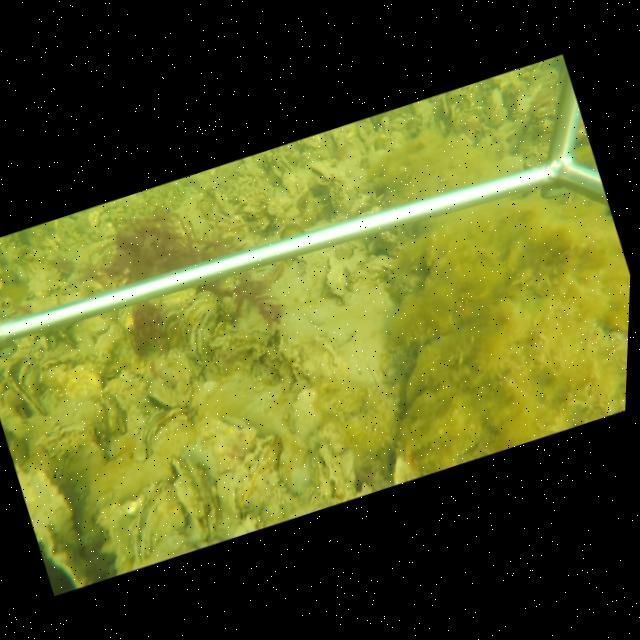Oyster-Closed: (130, 484, 183, 563), (169, 455, 215, 537), (236, 435, 282, 517), (178, 290, 220, 357), (143, 406, 194, 455), (9, 358, 45, 415), (323, 253, 346, 301)
Oyster-Indeterminate: (390, 385, 489, 480), (401, 326, 476, 403)
Oyster-Open: (308, 160, 335, 186), (161, 310, 179, 344)
